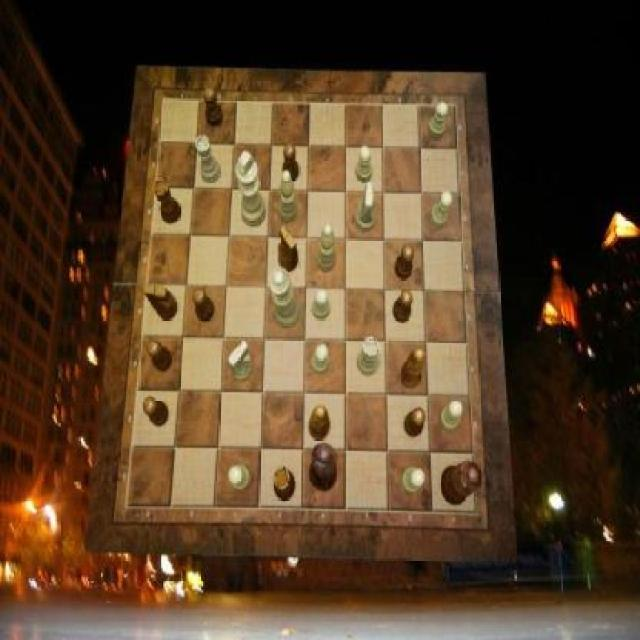bishop: (400, 348, 425, 388), (309, 404, 332, 440)
black-bishop: (309, 443, 337, 491)
black-king: (144, 284, 178, 320), (278, 226, 298, 272)
black-knight: (143, 397, 169, 428), (203, 88, 223, 128), (148, 340, 172, 372), (396, 244, 416, 280), (193, 288, 214, 322), (394, 289, 414, 323), (283, 143, 300, 182), (405, 408, 427, 437)
black-pawn: (440, 460, 482, 506)
black-queen: (154, 178, 181, 224), (274, 466, 296, 501)
black-rook: (278, 171, 298, 223), (317, 223, 337, 272)
white-bishop: (236, 151, 266, 227)
white-king: (229, 340, 254, 382), (356, 182, 376, 232)
white-knight: (431, 191, 454, 228), (428, 102, 448, 139), (440, 400, 463, 432), (357, 146, 374, 182), (313, 288, 332, 320), (403, 468, 426, 494), (311, 343, 330, 374), (229, 464, 250, 490)
white-pawn: (269, 268, 300, 328)
white-queen: (195, 137, 220, 185), (357, 337, 379, 377)
